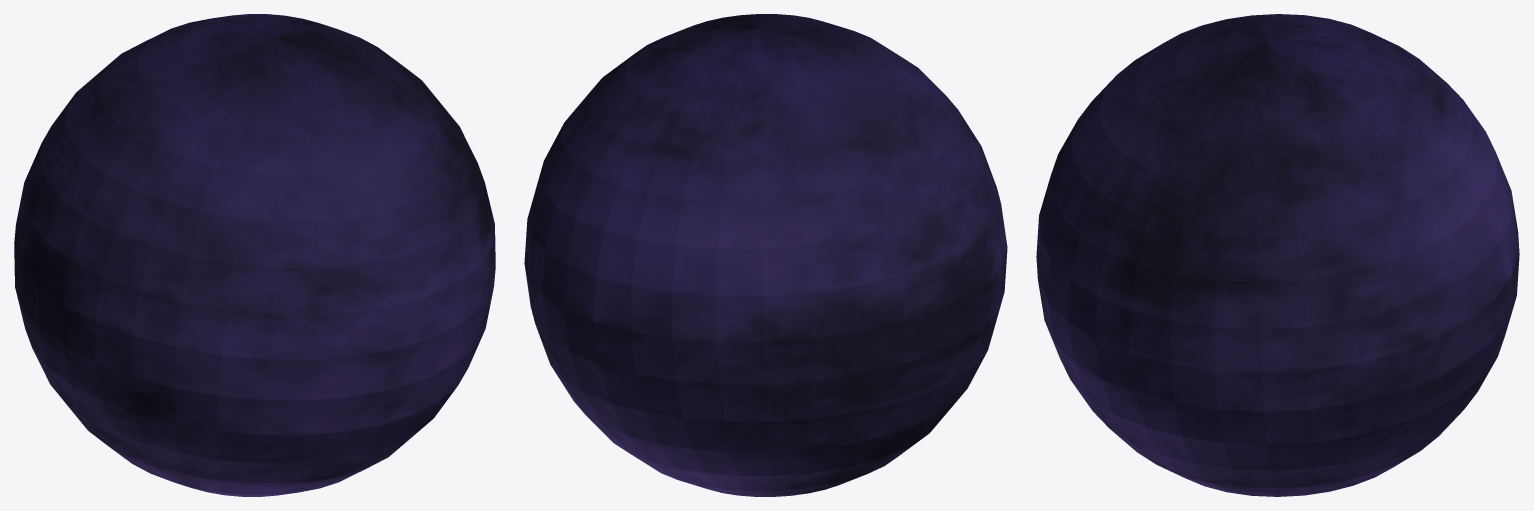
Rendered from skydome.obj.
3 renders of one model, left to right at view 1: azimuth 30°, elevation 25°; view 2: azimuth 150°, elevation 25°; view 3: azimuth 270°, elevation 25°, orthographic.
Parts seen in each view (by area): view 1: 球; view 2: 球; view 3: 球.
Boxes of the visible parts, x1,y1,x2,y2 form: 球: (14, 14, 495, 496); 球: (524, 14, 1007, 496); 球: (1036, 14, 1519, 496).
Bounding box in the file's own units: 1.99 × 1.99 × 1.99.
Materials: 1 (1 with a texture image).
